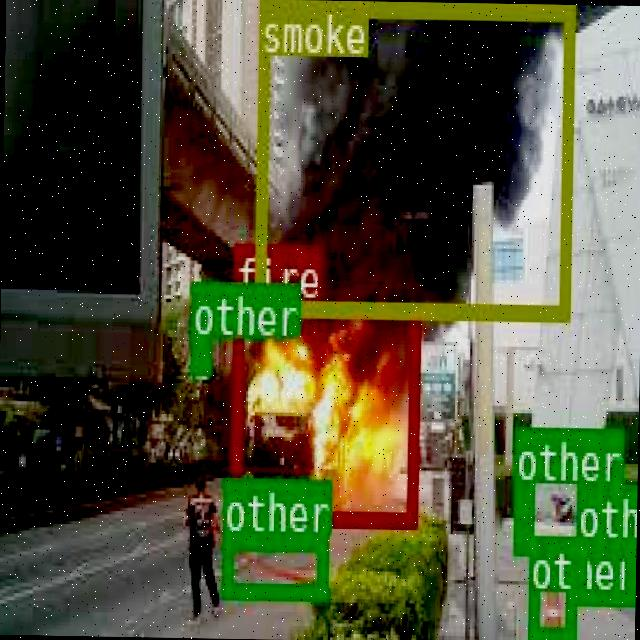fire: (228, 296, 418, 524)
smoke: (254, 0, 571, 319)
